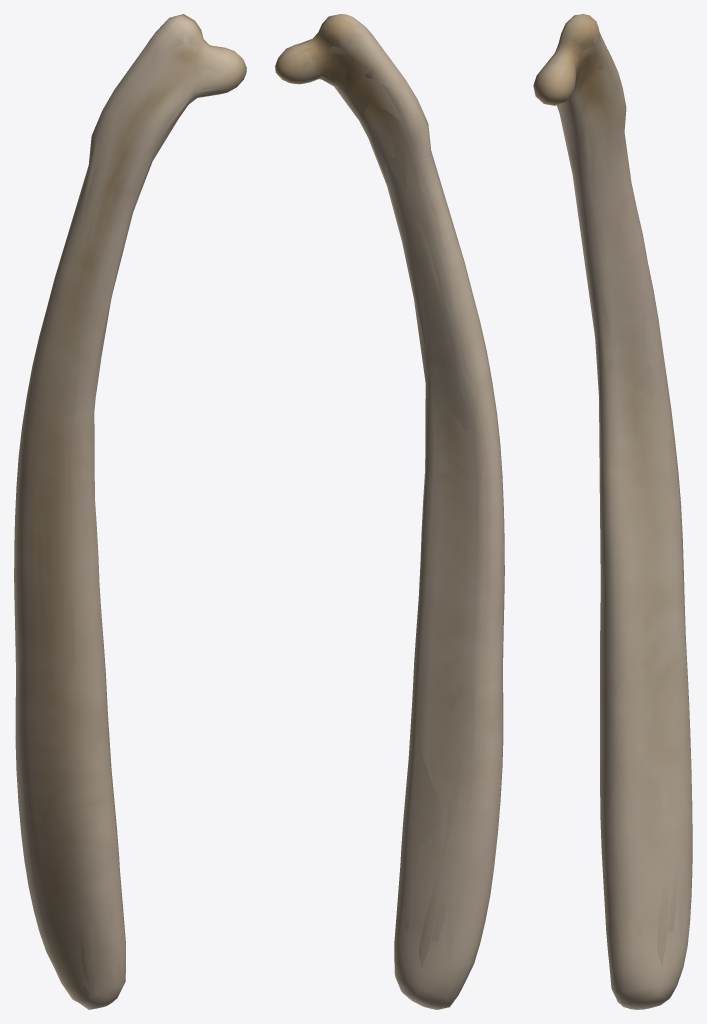
File: Rib R02.fbx
The picture shows the model from 3 angles, left to right: view 1: azimuth 30°, elevation 25°; view 2: azimuth 210°, elevation 25°; view 3: azimuth 270°, elevation 25°; orthographic projection. The views are drawn at different scales.
Parts seen in each view (by area): view 1: Rib R02, Rib R02 low; view 2: Rib R02, Rib R02 low; view 3: Rib R02, Rib R02 low.
Boxes of the visible parts, left/top/right/bottom form: Rib R02: left=14, top=14, right=246, bottom=1009; Rib R02 low: left=14, top=17, right=244, bottom=1004; Rib R02: left=275, top=14, right=504, bottom=1009; Rib R02 low: left=282, top=15, right=504, bottom=1008; Rib R02: left=533, top=14, right=692, bottom=1009; Rib R02 low: left=534, top=16, right=692, bottom=1005.
Bounding box in the file's own units: 6.67 × 35.78 × 5.05.
Materials: 1 (1 with a texture image).
